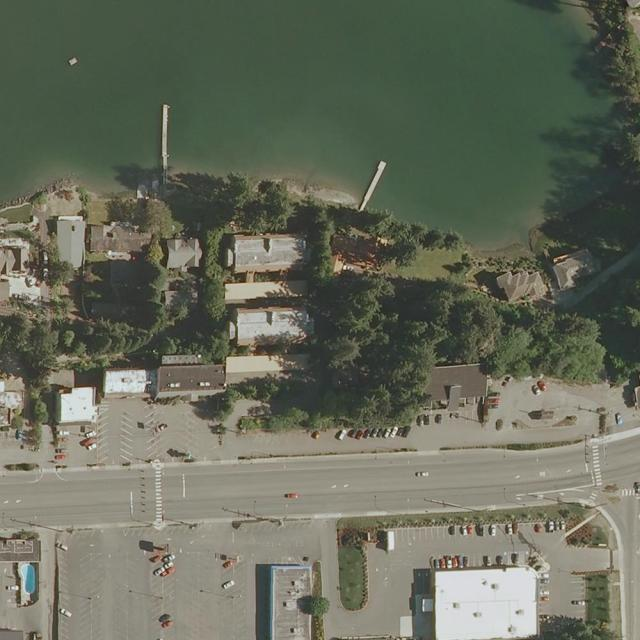building: (224, 233, 307, 283), (229, 305, 312, 347), (223, 346, 312, 384), (271, 566, 311, 639), (0, 237, 43, 301), (549, 245, 604, 292), (423, 363, 488, 402), (156, 365, 226, 397), (495, 265, 549, 304), (88, 222, 151, 251), (53, 216, 87, 269), (224, 281, 294, 304), (103, 368, 156, 396), (59, 387, 98, 423), (166, 238, 202, 271), (0, 378, 24, 427), (0, 239, 30, 274), (0, 539, 40, 563)
greenland: (309, 268, 607, 425), (105, 167, 296, 241), (327, 207, 464, 273), (210, 377, 348, 434), (287, 196, 350, 290), (13, 351, 57, 426), (154, 323, 230, 364), (198, 227, 225, 327), (142, 237, 167, 336), (339, 546, 369, 611), (585, 571, 610, 622), (298, 594, 331, 620)
metalled_road: (395, 522, 616, 609), (441, 379, 625, 451), (94, 395, 222, 465), (365, 545, 429, 636), (600, 495, 640, 639)
wetland: (539, 110, 614, 258)
